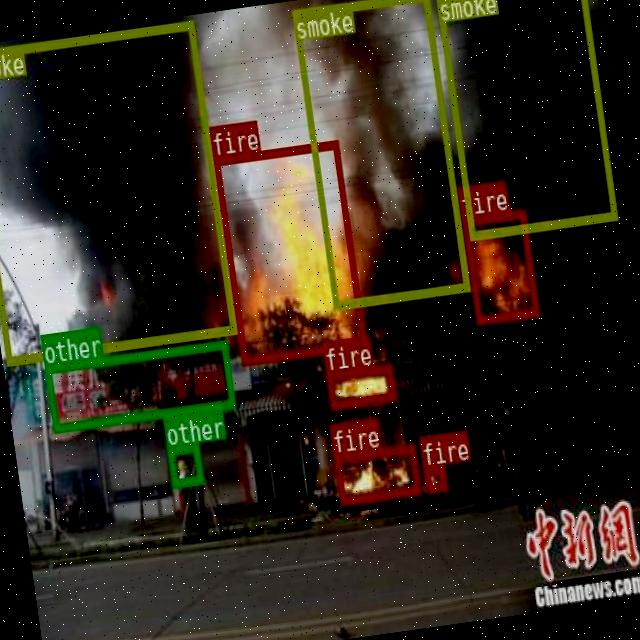fire: (212, 139, 366, 364), (461, 208, 538, 324), (332, 443, 420, 504), (325, 362, 395, 408), (424, 464, 446, 490)
smoke: (0, 20, 235, 365), (292, 0, 469, 308), (434, 0, 617, 239)
